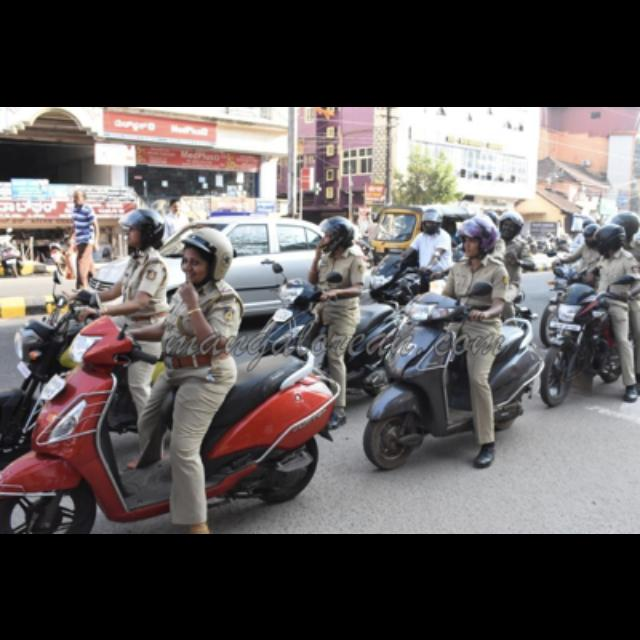With Helmet: (174, 222, 238, 290), (118, 202, 168, 258), (456, 208, 502, 260), (314, 206, 358, 258)
